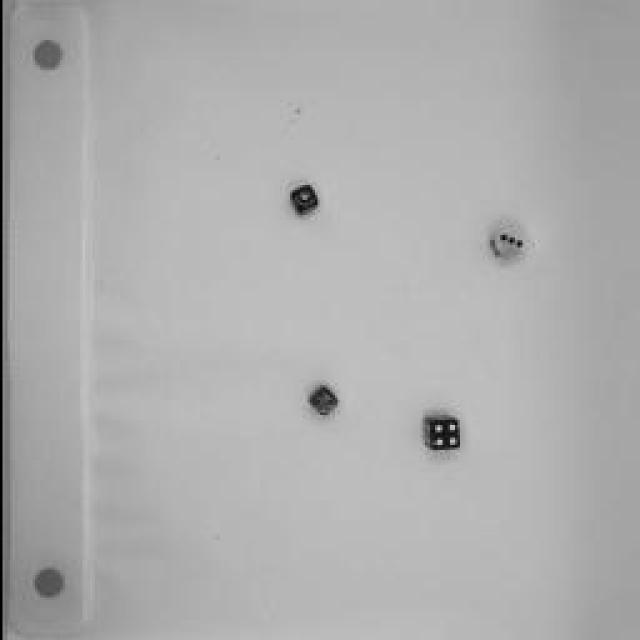dice_1: (280, 180, 320, 220)
dice_2: (300, 372, 345, 418)
dice_3: (483, 217, 525, 275)
dice_4: (415, 407, 465, 455)
